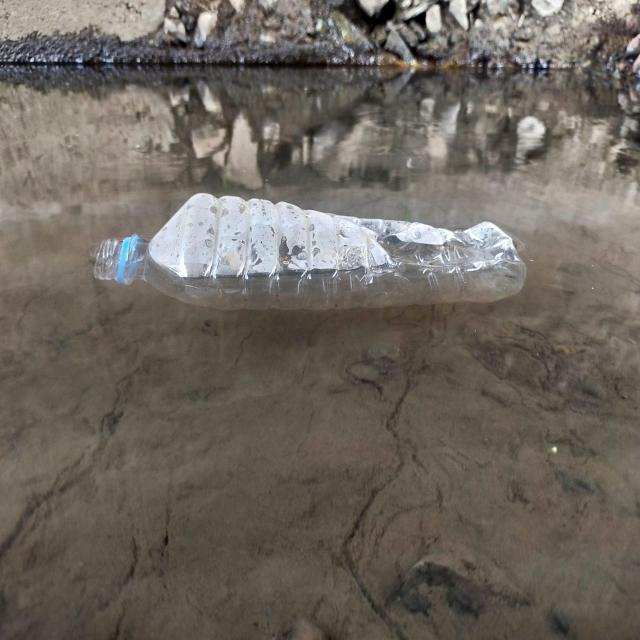bottle: (94, 185, 525, 319)
